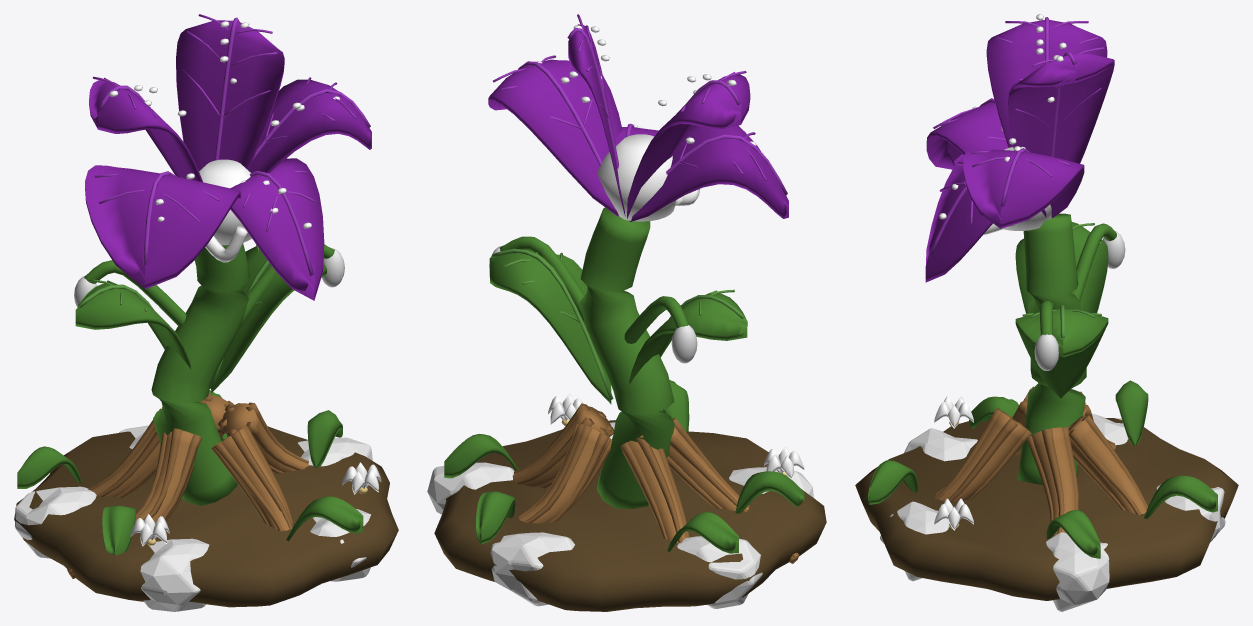
Rendered from orchid-2.fbx.
3 views of the same model, side by side, from view 1: azimuth 30°, elevation 25°; view 2: azimuth 150°, elevation 25°; view 3: azimuth 270°, elevation 25° (orthographic). The views are drawn at different scales.
Parts seen in each view (by area): view 1: Petals_Petal, orchid-2_Organic, Turret_PortalBamboo, orchid-2_Bark, orchid-2_Stone, orchid-2_PortalBamboo, OrchidThroat, orchid-2_Petal, Core_Glow, Petals_Organic, Barrel_Organic; view 2: orchid-2_Organic, Turret_PortalBamboo, Petals_Petal, orchid-2_Bark, orchid-2_Stone, orchid-2_PortalBamboo, OrchidThroat, orchid-2_Petal, Core_Glow, Petals_Organic; view 3: orchid-2_Organic, Petals_Petal, Turret_PortalBamboo, orchid-2_Bark, orchid-2_Stone, orchid-2_PortalBamboo, orchid-2_Petal, Core_Glow, Petals_Organic, OrchidThroat.
Part boxes in pixels (box(x1,y1,x2,y2)): Petals_Petal: box(85, 14, 371, 300); orchid-2_Organic: box(14, 426, 398, 607); Turret_PortalBamboo: box(75, 244, 334, 505); orchid-2_Bark: box(67, 393, 309, 578); orchid-2_Stone: box(15, 425, 372, 611); orchid-2_PortalBamboo: box(17, 390, 363, 555); OrchidThroat: box(199, 159, 251, 245); orchid-2_Petal: box(130, 462, 381, 546); Core_Glow: box(74, 248, 344, 307); Petals_Organic: box(109, 21, 340, 228); Barrel_Organic: box(205, 225, 247, 262); orchid-2_Organic: box(434, 419, 826, 611); Turret_PortalBamboo: box(489, 207, 747, 508); Petals_Petal: box(488, 14, 788, 221); orchid-2_Bark: box(512, 403, 799, 563); orchid-2_Stone: box(427, 422, 813, 608); orchid-2_PortalBamboo: box(444, 380, 804, 553); OrchidThroat: box(597, 134, 676, 221); orchid-2_Petal: box(548, 394, 804, 479); Core_Glow: box(489, 246, 697, 363); Petals_Organic: box(537, 25, 763, 154); orchid-2_Organic: box(855, 418, 1238, 600); Petals_Petal: box(925, 17, 1114, 282); Turret_PortalBamboo: box(1015, 213, 1116, 484); orchid-2_Bark: box(934, 386, 1147, 535); orchid-2_Stone: box(880, 413, 1225, 611); orchid-2_PortalBamboo: box(868, 380, 1217, 558); orchid-2_Petal: box(934, 396, 973, 530); Core_Glow: box(1034, 231, 1125, 370); Petals_Organic: box(939, 14, 1066, 219); OrchidThroat: box(1003, 147, 1051, 230).
Size of the model in its own units: 82.07 by 121 by 82.7.
